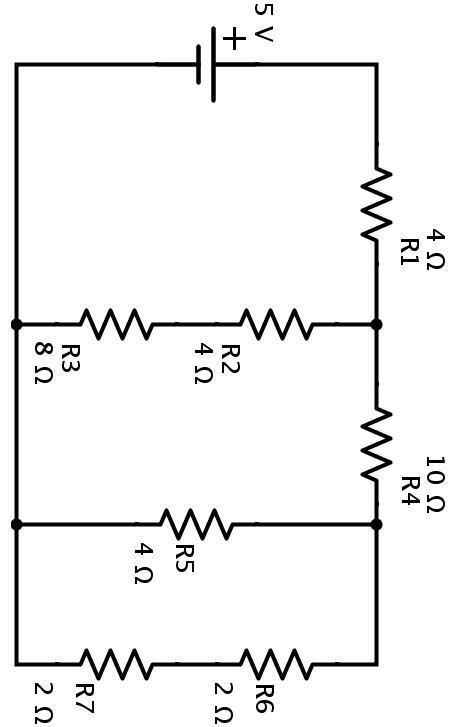resistor: (145, 478, 253, 543), (210, 635, 338, 688), (64, 293, 174, 350), (347, 389, 403, 492), (231, 291, 338, 342), (60, 629, 161, 682), (357, 143, 401, 257)
